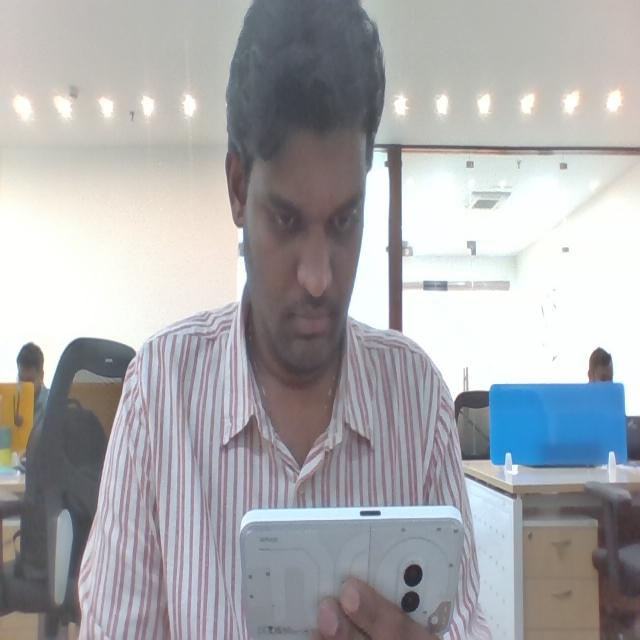phone: (240, 508, 463, 625)
